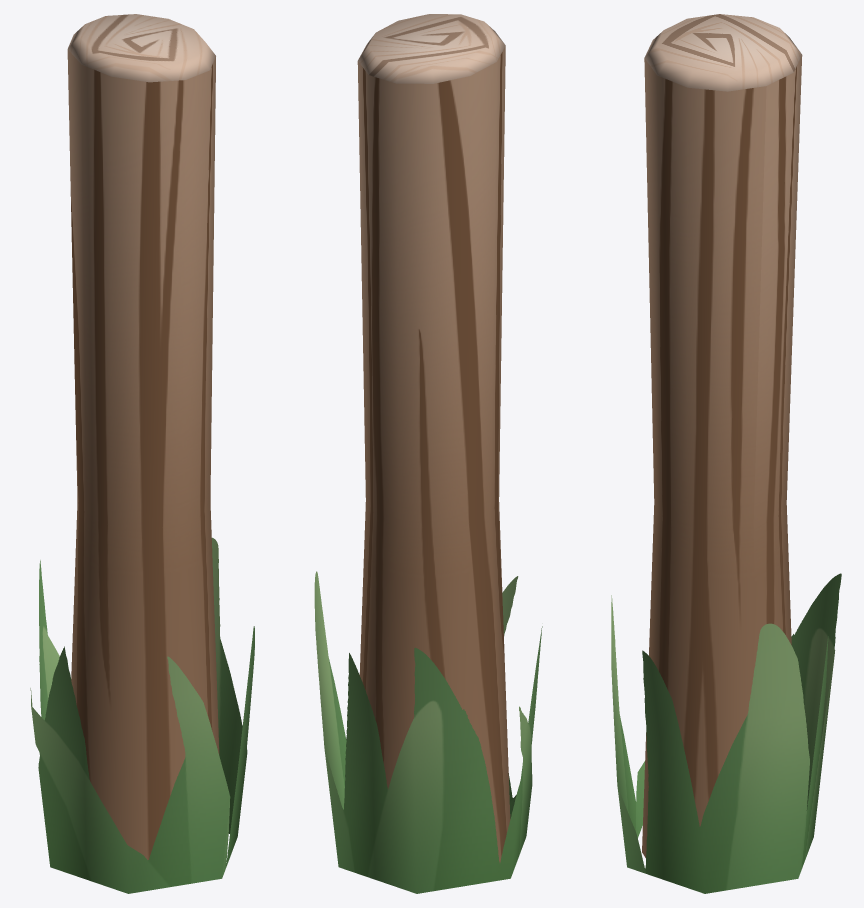
Rendered from Hek_End.fbx.
3 renders of one model, left to right at view 1: azimuth 30°, elevation 25°; view 2: azimuth 150°, elevation 25°; view 3: azimuth 270°, elevation 25°, orthographic.
Parts seen in each view (by area): view 1: polySurface21; view 2: polySurface21; view 3: polySurface21.
Boxes of the visible parts, x1,y1,x2,y2 form: polySurface21: (30,14,254,893); polySurface21: (314,14,542,893); polySurface21: (611,14,841,893).
Size of the model in its own units: 1.92 by 6.29 by 1.82.
